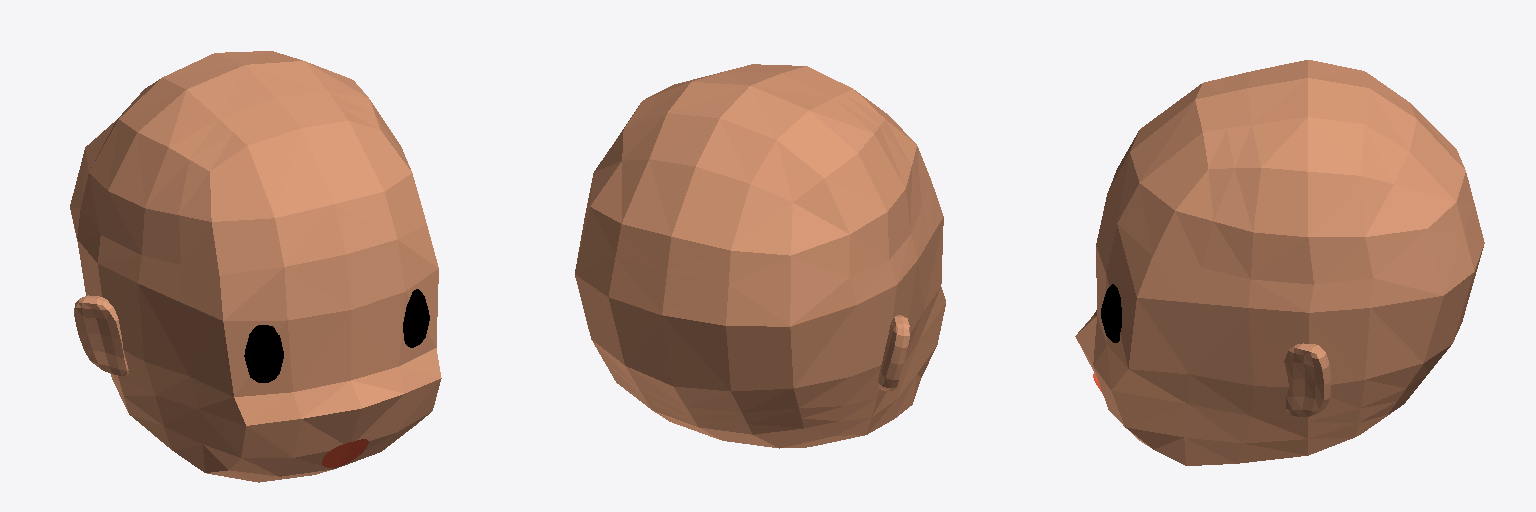
Rendered from Umatchii_FINAL.obj.
3 views of the same model, side by side, from view 1: azimuth 30°, elevation 25°; view 2: azimuth 150°, elevation 25°; view 3: azimuth 270°, elevation 25° (orthographic).
Parts seen in each view (by area): view 1: EarRight1; view 2: EarRight1; view 3: EarRight1.
Part boxes in pixels (x1,y1,x2,y2): EarRight1: (70,51,441,482); EarRight1: (575,64,945,448); EarRight1: (1075,60,1484,465).
Bounding box in the file's own units: 3.31 × 3.52 × 3.63.